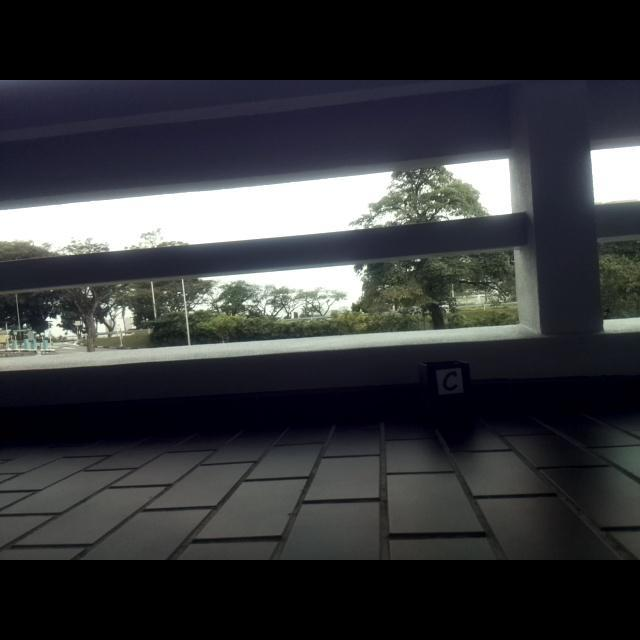C: (443, 370, 458, 392)
